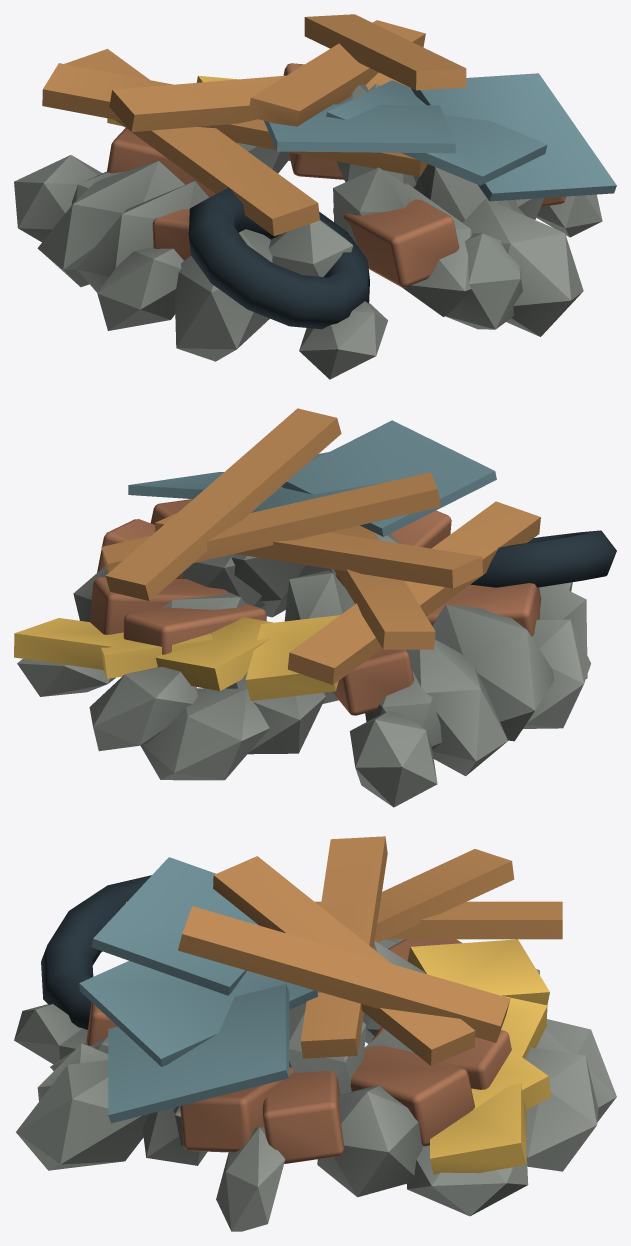
File: industrial-waste-low.glb
3 renders of one model, top to bottom at view 1: azimuth 30°, elevation 25°; view 2: azimuth 150°, elevation 25°; view 3: azimuth 270°, elevation 25°, orthographic. The views are drawn at different scales.
Visible parts, largest first — view 1: broken concrete, splintered pallet plank, bent sheet panel, discarded tyre, chipped brick; view 2: broken concrete, splintered pallet plank, chipped brick, creased packaging, bent sheet panel, discarded tyre; view 3: splintered pallet plank, broken concrete, bent sheet panel, chipped brick, creased packaging, discarded tyre.
Boxes of the visible parts, x1,y1,x2,y2 form: broken concrete: (14,84,602,379); splintered pallet plank: (42,14,466,236); bent sheet panel: (264,73,616,201); discarded tyre: (188,187,369,329); chipped brick: (106,63,565,287); broken concrete: (17,533,590,807); splintered pallet plank: (101,408,540,684); chipped brick: (90,499,541,715); creased packaging: (14,615,339,700); bent sheet panel: (128,420,496,536); discarded tyre: (470,530,616,587); splintered pallet plank: (126,836,562,1065); broken concrete: (14,939,616,1231); bent sheet panel: (79,857,317,1123); chipped brick: (86,939,511,1163); creased packaging: (407,939,551,1174); discarded tyre: (41,875,151,1029).
Bounding box in the file's own units: 1.01 × 0.4737 × 1.04.
